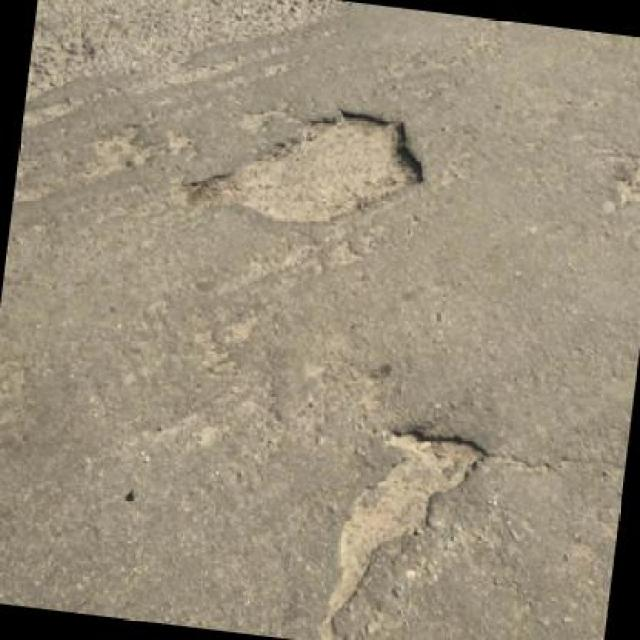pothole1: (168, 82, 440, 245), (309, 416, 491, 638), (602, 145, 638, 226)
